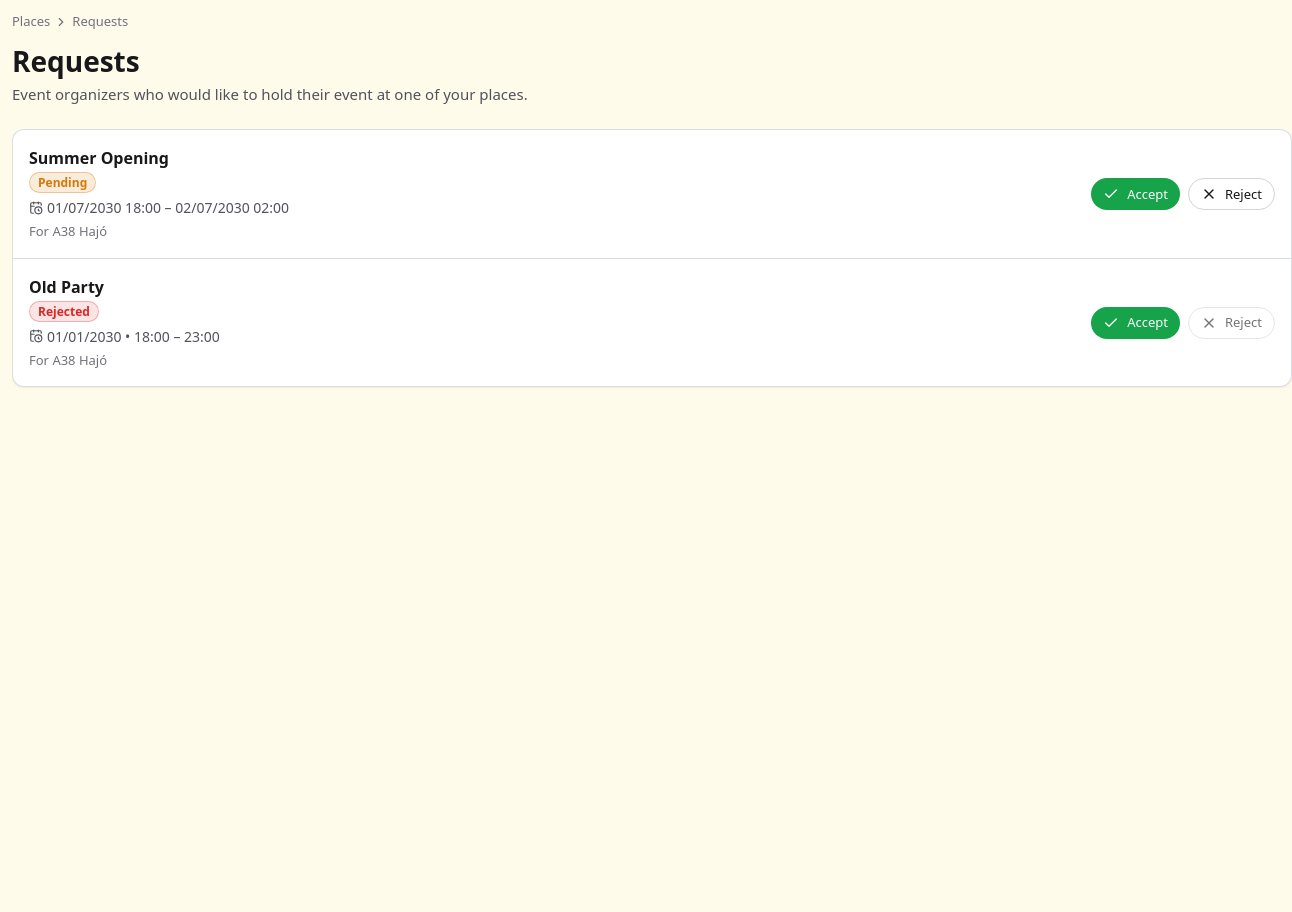
PlaceRequestsPage › lists every request, pending first, and answers one
Check: the headings read "Summer Opening", "Old Party", in this order, box x1=29 y1=147 x2=169 y2=169; x1=29 y1=276 x2=104 y2=298
Click the button with aria-label "Reject Summer Opening for A38 Hajó" at (1232, 194), box x1=1188 y1=178 x2=1275 y2=210
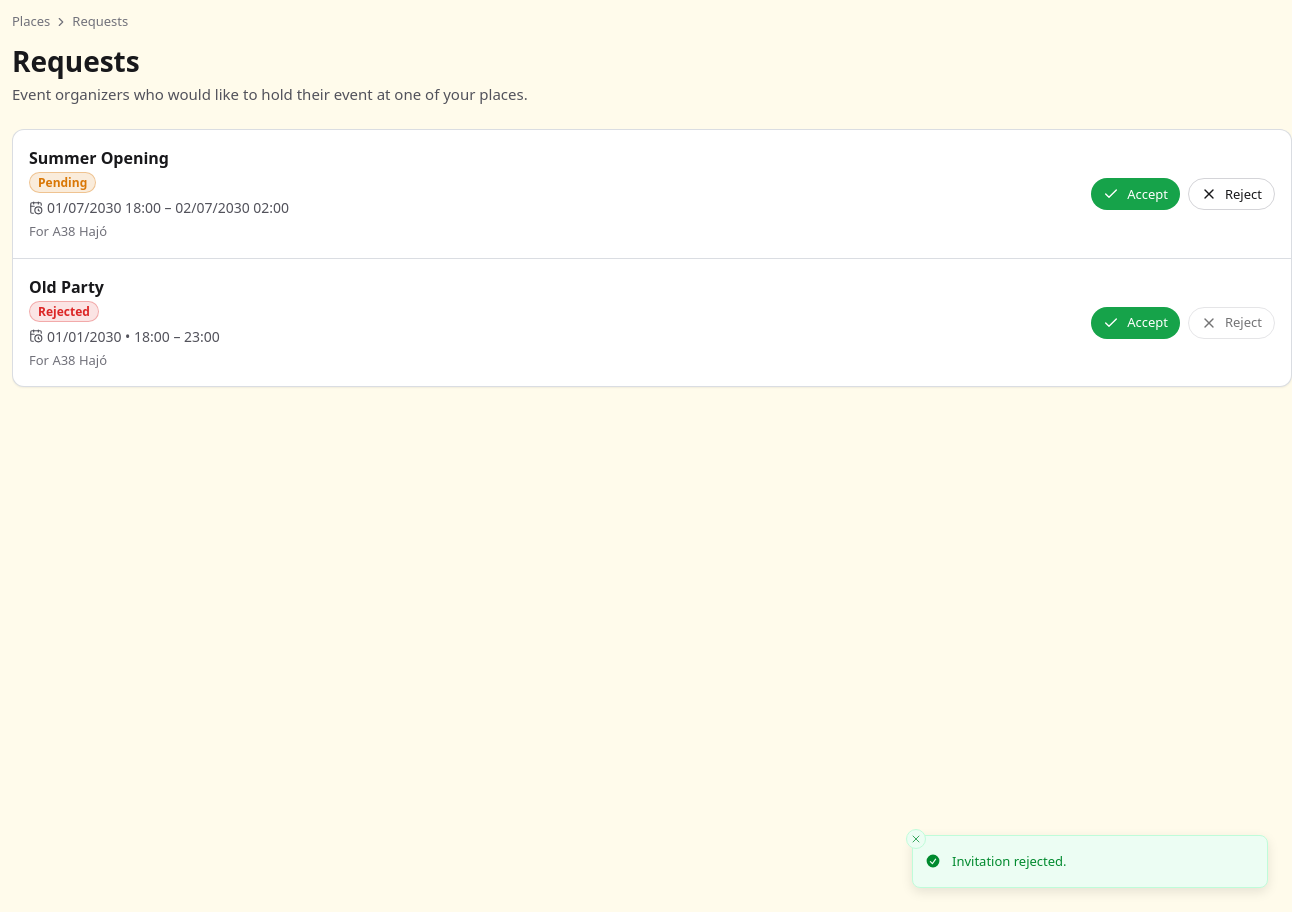
Check: the text "Invitation rejected." is shown, box x1=952 y1=852 x2=1067 y2=871
